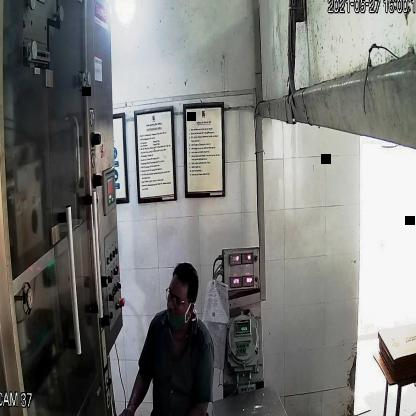goggles: (162, 282, 192, 310)
